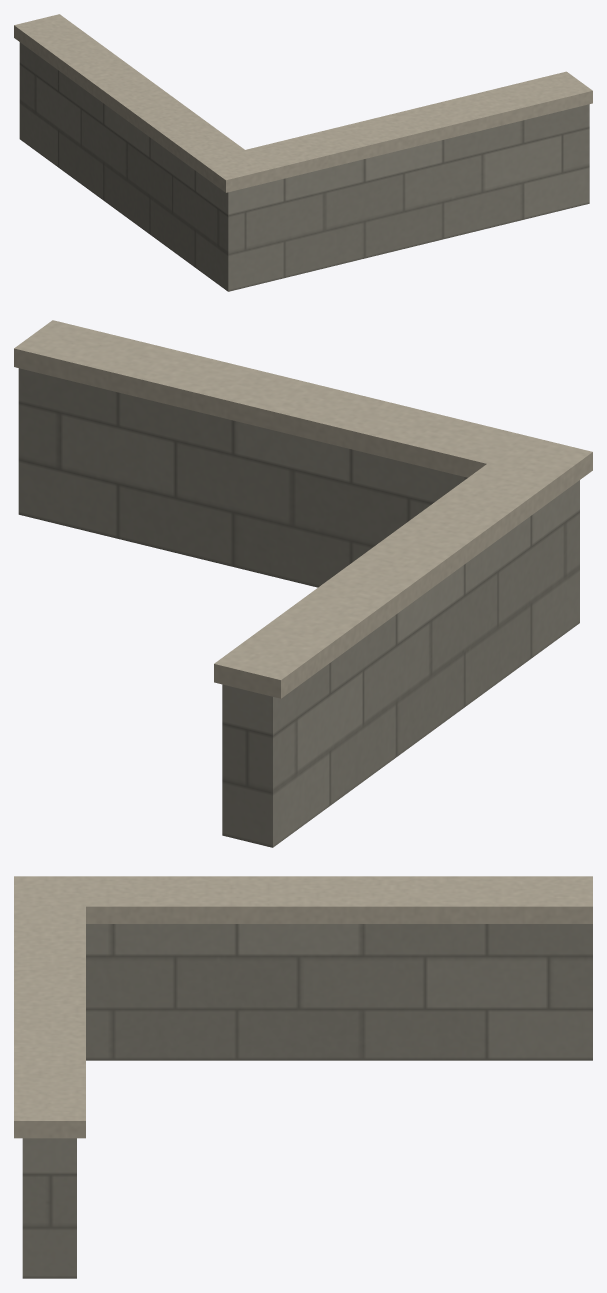
Rendered from Stone_Wall_Corner.fbx.
3 views of the same model, one above another, from view 1: azimuth 30°, elevation 25°; view 2: azimuth 150°, elevation 25°; view 3: azimuth 270°, elevation 25° (orthographic). The views are drawn at different scales.
Parts seen in each view (by area): view 1: Stone_Wall_Corner.001; view 2: Stone_Wall_Corner.001; view 3: Stone_Wall_Corner.001.
Boxes of the visible parts, box(x1,y1,x2,y2) form: Stone_Wall_Corner.001: box(14, 14, 592, 291); Stone_Wall_Corner.001: box(14, 320, 592, 847); Stone_Wall_Corner.001: box(14, 876, 592, 1278).
Bounding box in the file's own units: 4.26 × 1.28 × 4.26.
